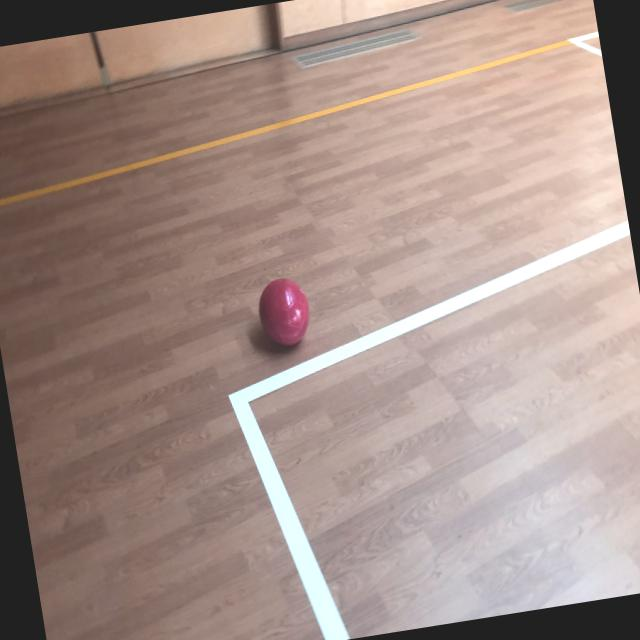red_ball: (253, 273, 316, 352)
